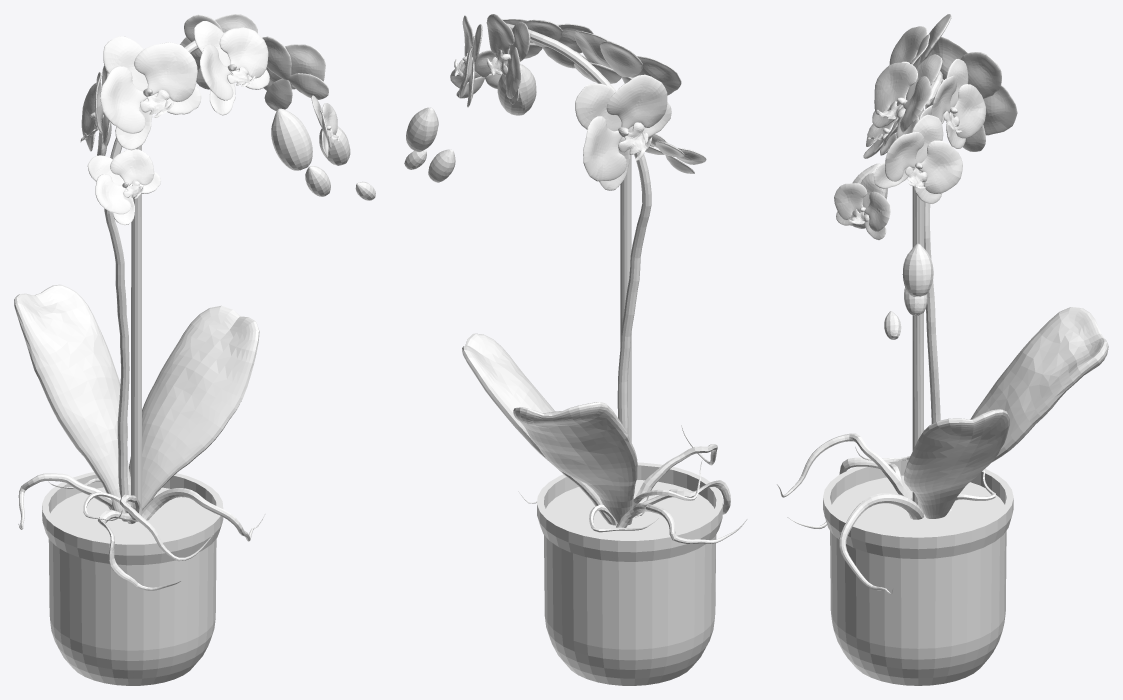
Rendered from Orchid.obj.
3 views of the same model, side by side, from view 1: azimuth 30°, elevation 25°; view 2: azimuth 150°, elevation 25°; view 3: azimuth 270°, elevation 25° (orthographic). The views are drawn at different scales.
Visible parts, largest first — view 1: obj7, obj3, obj1, obj0, obj5, obj2, obj6, obj4; view 2: obj7, obj3, obj1, obj0, obj4, obj5, obj2, obj6; view 3: obj7, obj3, obj1, obj0, obj5, obj2, obj6, obj4.
Boxes of the visible parts, box(x1,y1,x2,y2) form: obj7: box(42, 472, 223, 685); obj3: box(14, 284, 259, 513); obj1: box(81, 14, 337, 214); obj0: box(80, 14, 339, 225); obj5: box(18, 473, 265, 590); obj2: box(271, 108, 375, 200); obj6: box(131, 145, 141, 521); obj4: box(104, 32, 224, 512); obj7: box(537, 462, 722, 685); obj3: box(462, 333, 637, 524); obj1: box(450, 14, 706, 181); obj0: box(454, 19, 694, 190); obj4: box(507, 23, 651, 434); obj5: box(518, 425, 747, 543); obj2: box(404, 64, 536, 182); obj6: box(620, 149, 631, 442); obj7: box(823, 457, 1013, 685); obj3: box(904, 307, 1108, 518); obj1: box(834, 26, 1017, 231); obj0: box(836, 14, 1001, 239); obj5: box(777, 433, 995, 594); obj2: box(850, 163, 933, 339); obj6: box(912, 108, 923, 514); obj4: box(924, 71, 942, 423).
Size of the model in its own units: 61.01 by 103 by 48.44.
8 materials, 8 textured.
